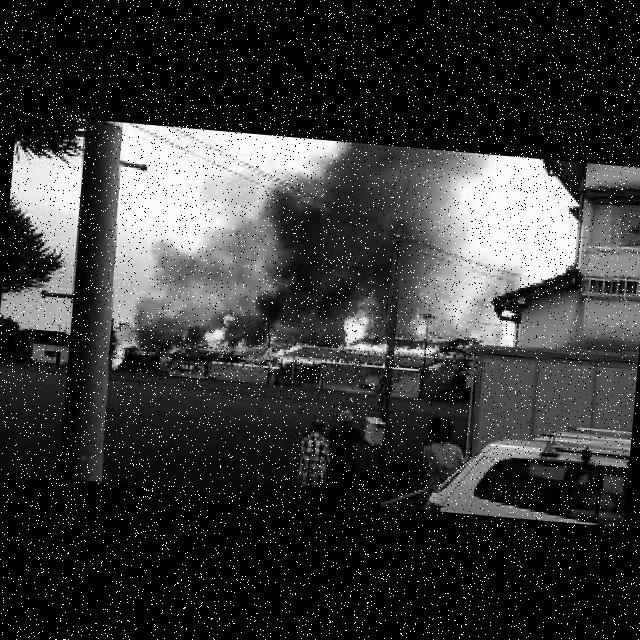Fire: (163, 309, 304, 365), (334, 301, 438, 358), (285, 353, 419, 375), (428, 332, 483, 374), (109, 334, 136, 368), (208, 359, 280, 371), (304, 339, 335, 350), (168, 363, 202, 370)
Smoke: (256, 135, 489, 310), (145, 172, 348, 328), (434, 245, 529, 340)
